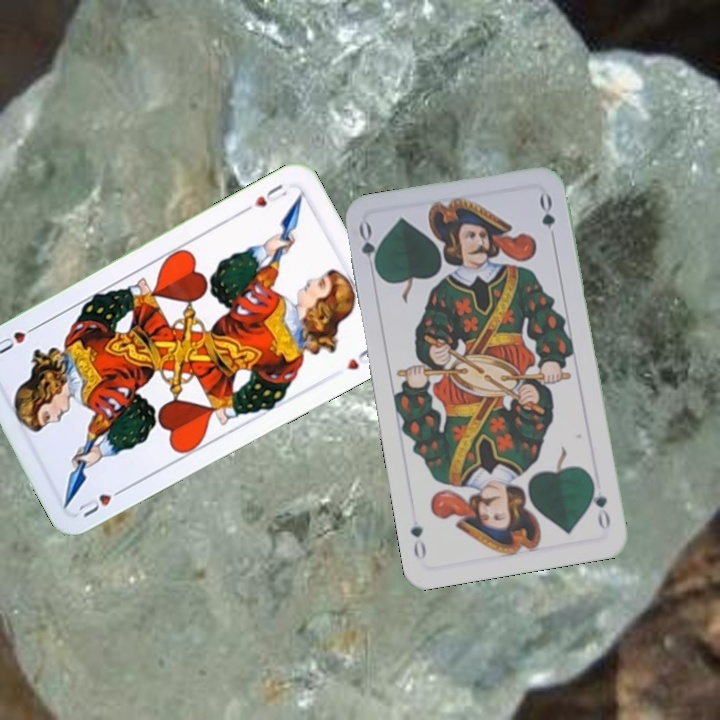GO: (354, 219, 382, 278), (586, 475, 613, 532)
HU: (74, 483, 129, 520), (239, 180, 290, 215)
